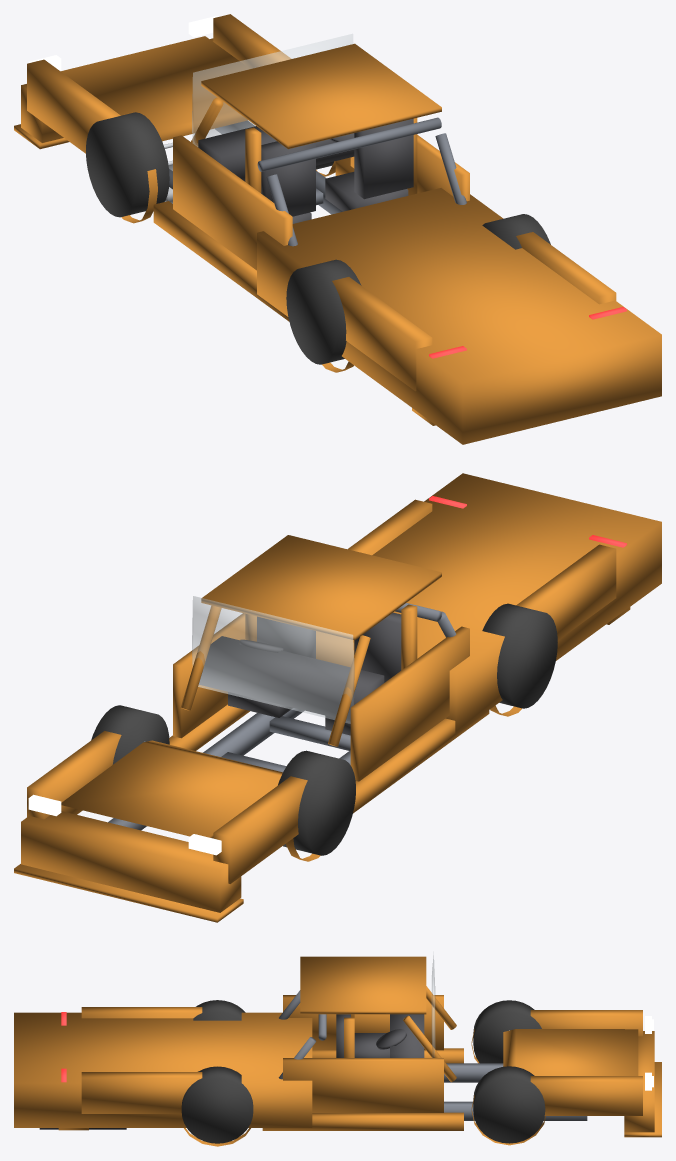
Rendered from pickup_truck_complete.glb.
3 views of the same model, one above another, from view 1: azimuth 30°, elevation 25°; view 2: azimuth 150°, elevation 25°; view 3: azimuth 270°, elevation 25° (orthographic). The views are drawn at different scales.
Parts seen in each view (by area): view 1: BODY_RearClip, BODY_Cabin, BODY_FrontClip, INTERIOR_Cockpit, WHEEL_FR, WHEEL_RR, Pickup_RollBar, GLASS_Windshield, WHEEL_RL, CHASSIS_Main; view 2: BODY_RearClip, BODY_FrontClip, BODY_Cabin, GLASS_Windshield, INTERIOR_Cockpit, WHEEL_RR, WHEEL_FR, CHASSIS_Main, WHEEL_FL; view 3: BODY_RearClip, BODY_Cabin, BODY_FrontClip, WHEEL_FL, WHEEL_RL, INTERIOR_Cockpit, WHEEL_FR, CHASSIS_Main, WHEEL_RR, Pickup_RollBar, GLASS_Windshield.
Part boxes in pixels (bbox=[...]): BODY_RearClip: bbox=[257, 188, 661, 444]; BODY_Cabin: bbox=[153, 43, 469, 321]; BODY_FrontClip: bbox=[14, 14, 335, 223]; INTERIOR_Cockpit: bbox=[198, 118, 413, 223]; WHEEL_FR: bbox=[86, 112, 169, 217]; WHEEL_RR: bbox=[286, 259, 361, 364]; Pickup_RollBar: bbox=[257, 117, 466, 246]; GLASS_Windshield: bbox=[192, 33, 353, 146]; WHEEL_RL: bbox=[482, 214, 550, 249]; CHASSIS_Main: bbox=[169, 120, 342, 214]; BODY_RearClip: bbox=[316, 473, 661, 733]; BODY_FrontClip: bbox=[14, 731, 320, 922]; BODY_Cabin: bbox=[169, 535, 489, 813]; GLASS_Windshield: bbox=[192, 596, 354, 723]; INTERIOR_Cockpit: bbox=[199, 612, 401, 735]; WHEEL_RR: bbox=[482, 603, 557, 708]; WHEEL_FR: bbox=[278, 750, 355, 855]; CHASSIS_Main: bbox=[108, 708, 350, 830]; WHEEL_FL: bbox=[91, 705, 169, 764]; BODY_RearClip: bbox=[14, 1007, 312, 1146]; BODY_Cabin: bbox=[262, 956, 463, 1130]; BODY_FrontClip: bbox=[471, 1010, 661, 1145]; WHEEL_FL: bbox=[473, 1066, 545, 1143]; WHEEL_RL: bbox=[181, 1066, 253, 1143]; INTERIOR_Cockpit: bbox=[336, 1014, 424, 1057]; WHEEL_FR: bbox=[473, 1000, 541, 1063]; CHASSIS_Main: bbox=[444, 1063, 587, 1120]; WHEEL_RR: bbox=[193, 1000, 245, 1020]; Pickup_RollBar: bbox=[278, 990, 326, 1079]; GLASS_Windshield: bbox=[431, 952, 435, 1057].
Bounding box in the file's own units: 2.07 × 1.63 × 7.22.
